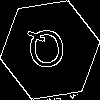Q: (25, 25, 69, 79)
